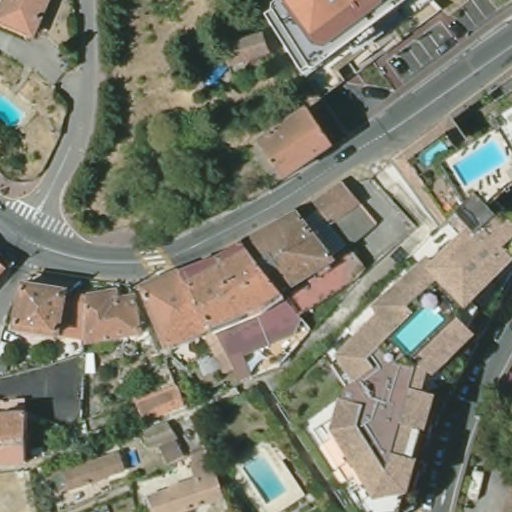pool: (452, 130, 508, 193), (394, 302, 447, 358), (244, 448, 287, 504), (417, 136, 452, 171), (1, 94, 28, 131)
